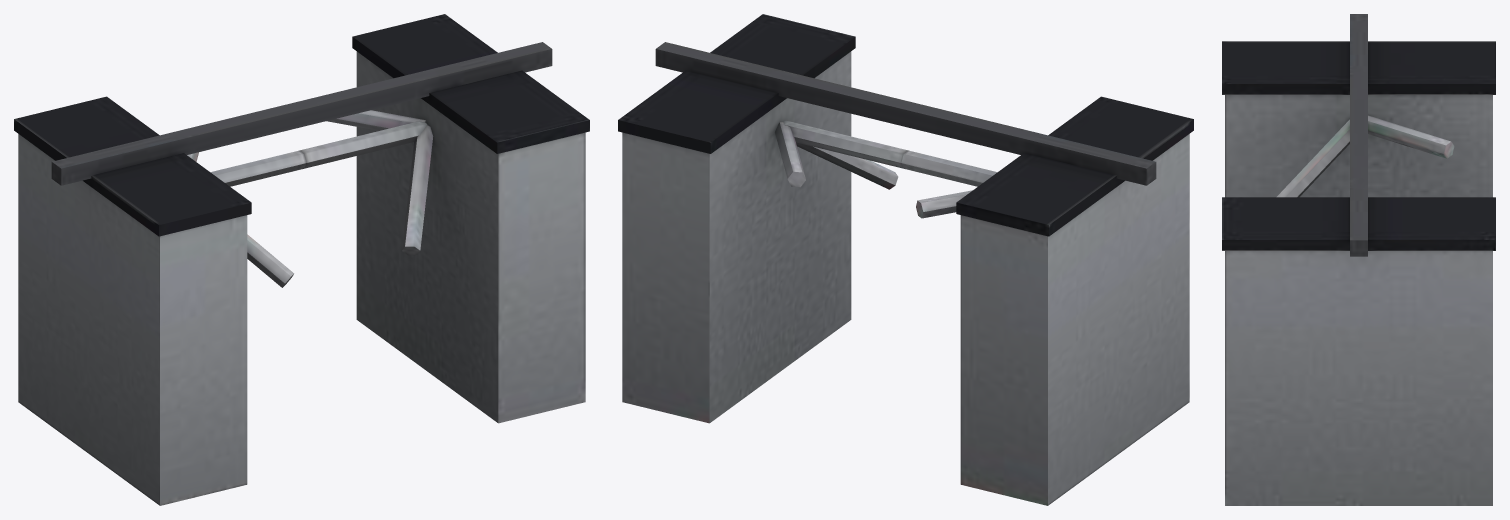
The model's file is torniquete.glb.
3 views of the same model, side by side, from view 1: azimuth 30°, elevation 25°; view 2: azimuth 150°, elevation 25°; view 3: azimuth 270°, elevation 25° (orthographic). The views are drawn at different scales.
Visible parts, largest first — view 1: torniquete; view 2: torniquete; view 3: torniquete.
Boxes of the visible parts, left/top/right/bottom form: torniquete: left=14, top=14, right=589, bottom=505; torniquete: left=618, top=14, right=1193, bottom=505; torniquete: left=1222, top=14, right=1495, bottom=505.
Bounding box in the file's own units: 1.8 × 1.04 × 0.92.
Materials: 1 (1 with a texture image).
